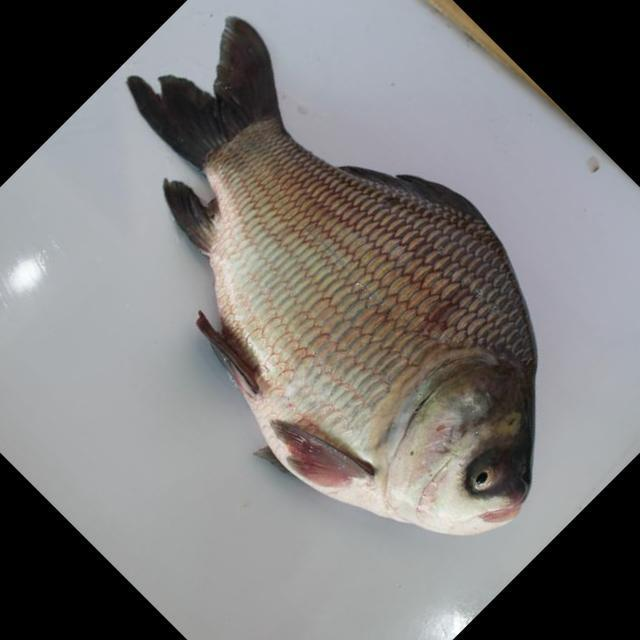Catla: (112, 13, 547, 532)
